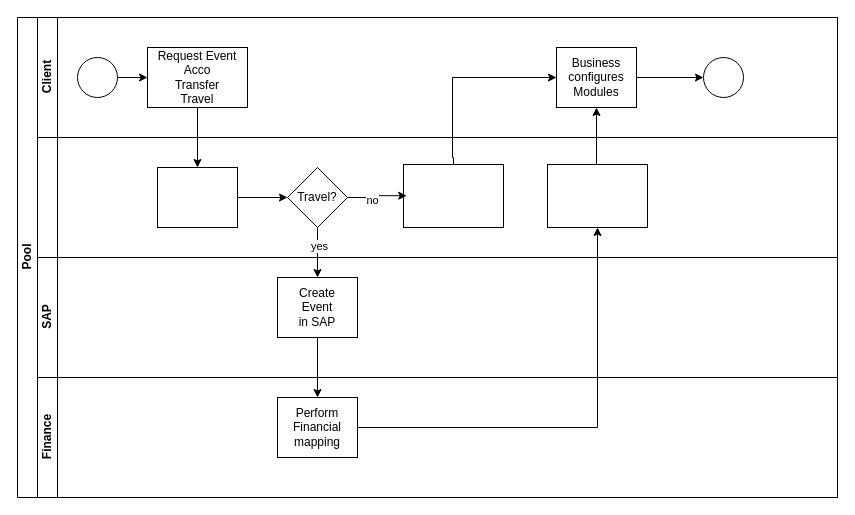
The diagram is 855 pixels wide and 515 high, and some of its shapes have lost their labels. Here are the shapes that lost their labels. From the top down, the box of each, then its label:
(156, 166, 238, 228): Create Event in FAME EBS
(36, 136, 838, 258): Event Services Support Team
(402, 164, 504, 228): Create Event in Module Acco Module Transfer
(546, 164, 648, 228): Create Event in Module Travel
